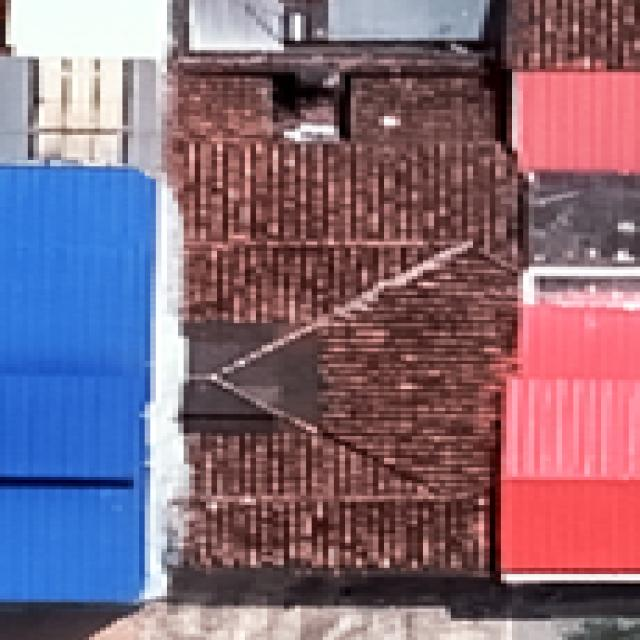Batiment: (181, 0, 521, 574)
